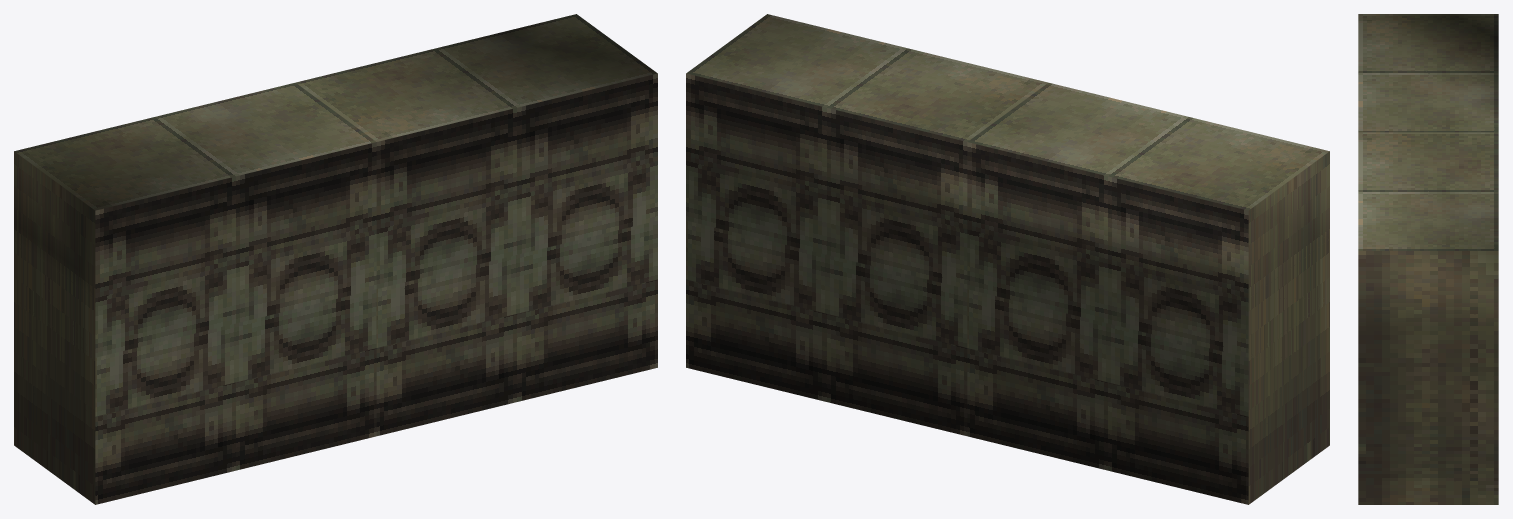
File: wall_border_02.glb
3 renders of one model, left to right at view 1: azimuth 30°, elevation 25°; view 2: azimuth 150°, elevation 25°; view 3: azimuth 270°, elevation 25°, orthographic. The views are drawn at different scales.
Parts seen in each view (by area): view 1: wall_border_02; view 2: wall_border_02; view 3: wall_border_02.
Part boxes in pixels (x1,y1,x2,y2): wall_border_02: (14, 14, 657, 504); wall_border_02: (686, 14, 1329, 504); wall_border_02: (1358, 14, 1498, 504).
Bounding box in the file's own units: 4 × 2 × 1.
Materials: 1 (1 with a texture image).
